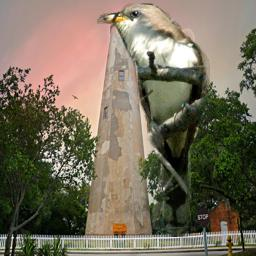Cuckoo: (97, 3, 210, 237)
